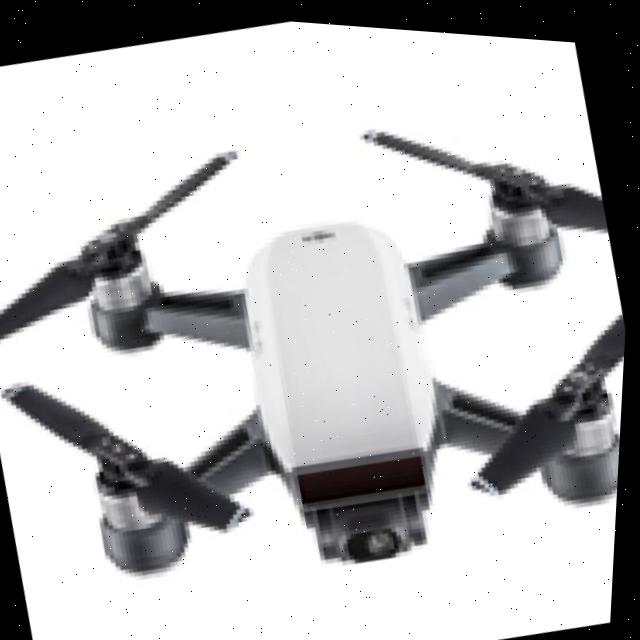drones: (0, 34, 639, 640)
